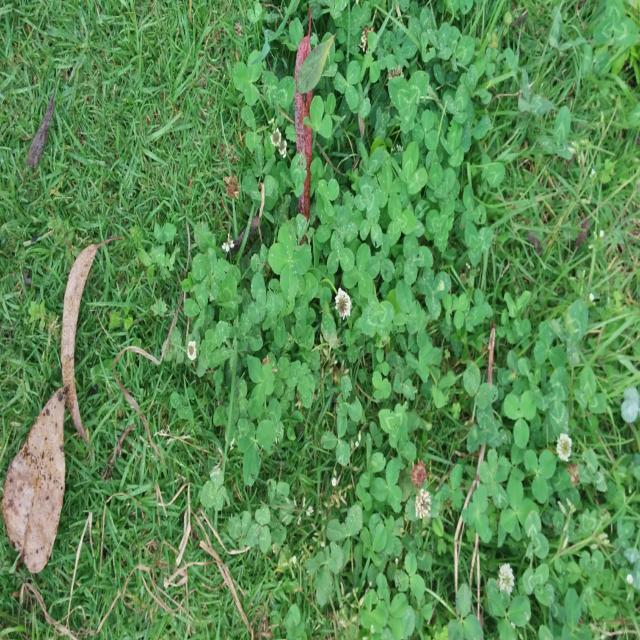Four Leaf Clover: (268, 223, 312, 301)
